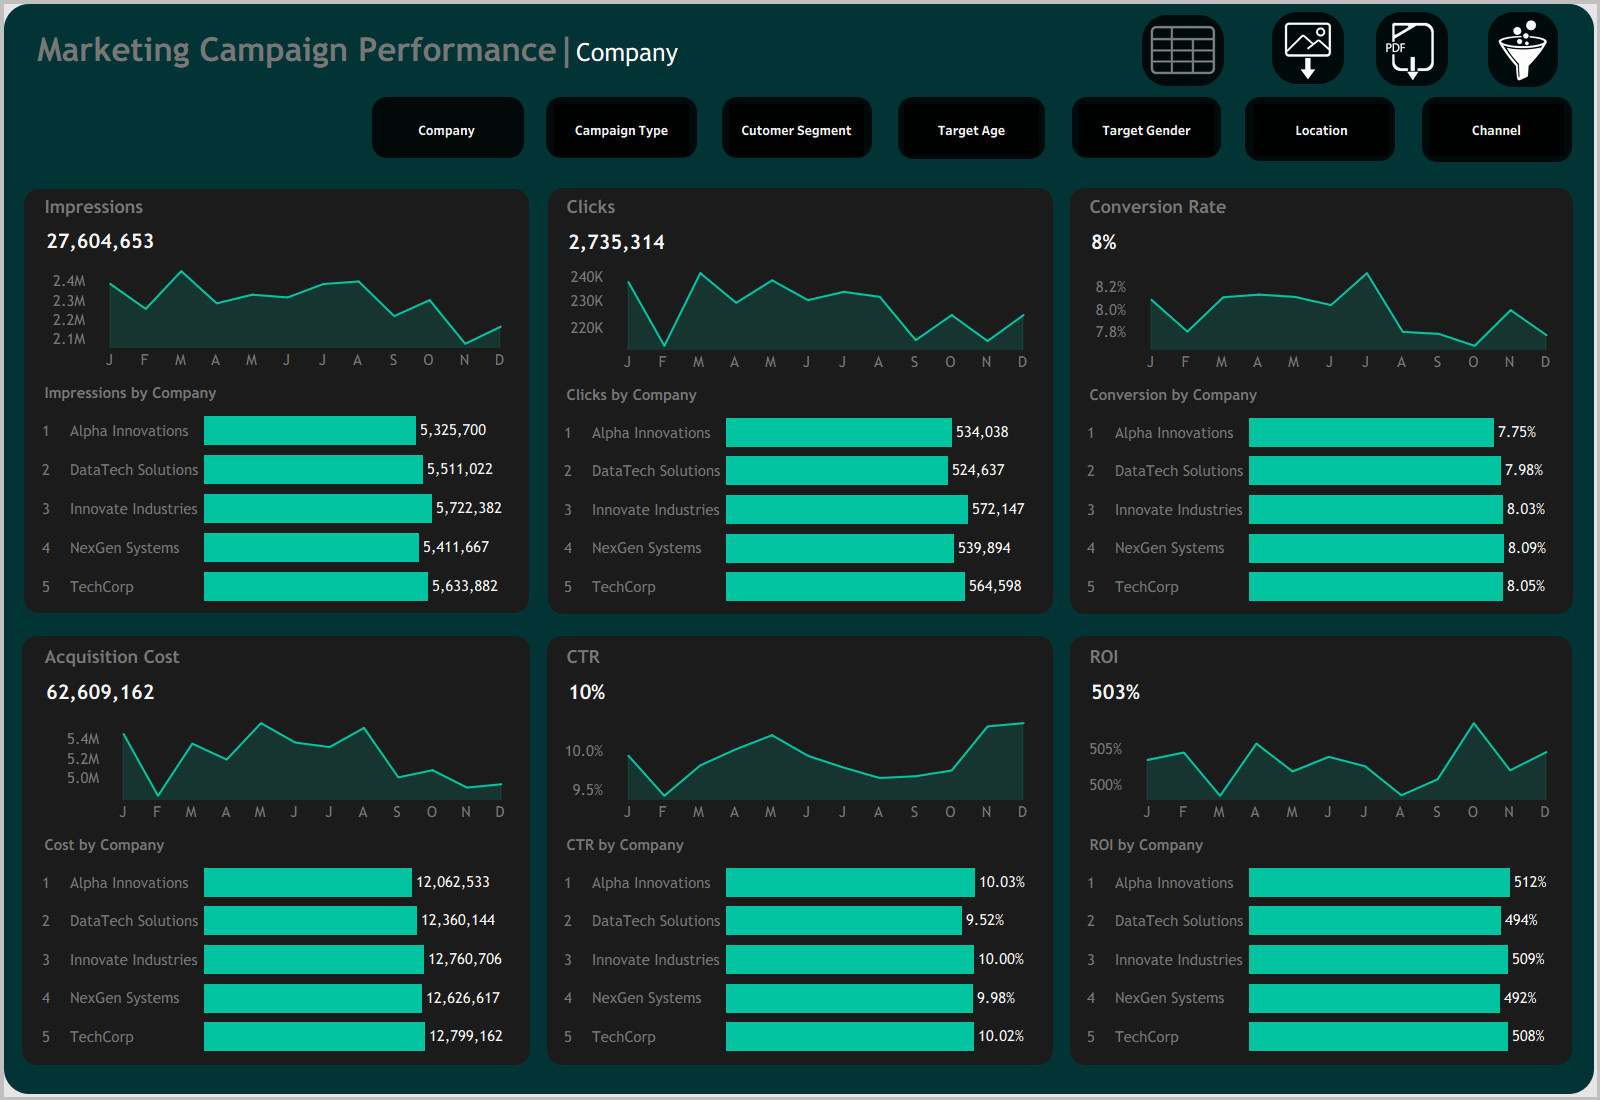

What the dashboard file says about the page in this screenshot:
{"tool":"tableau","page":{"name":"Company Page","canvas":[1600,1100],"ordinal":2},"visuals":[{"type":"worksheet","title":"Background Dashboard","mark":"Automatic","box":[0,0,1600,1100]},{"type":"blank","box":[0,0,1600,15]},{"type":"filter","title":"Impressions by Company","param":"[federated.1mnywug06xvtuc16vjv8v0i6xip0].[none:Channel_Used:nk]","box":[772,12,140.6,60]},{"type":"filter","title":"Impressions by Company","param":"[federated.1mnywug06xvtuc16vjv8v0i6xip0].[none:Company:nk]","box":[912.6,12,140.6,60]},{"type":"filter","title":"Impressions by Company","param":"[federated.1mnywug06xvtuc16vjv8v0i6xip0].[none:Calculation_1166370128986117:nk]","box":[1053.2,12,140.6,60]},{"type":"filter","title":"Impressions by Company","param":"[federated.1mnywug06xvtuc16vjv8v0i6xip0].[none:Target_Age:nk]","box":[1193.8,12,140.6,60]},{"type":"filter","title":"Impressions by Company","param":"[federated.1mnywug06xvtuc16vjv8v0i6xip0].[none:Target_Gender:nk]","box":[1334.4,12,140.6,60]},{"type":"text","box":[0,15,778,70]},{"type":"blank","box":[778,15,366,70]},{"type":"dashboard-object","box":[1144,15,77,70]},{"type":"blank","box":[1221,15,50,70]},{"type":"dashboard-object","box":[1271,15,73,70]},{"type":"blank","box":[1344,15,30,70]},{"type":"dashboard-object","box":[1374,15,70,70]},{"type":"blank","box":[1444,15,43,70]},{"type":"dashboard-object","box":[1487,15,70,70]},{"type":"blank","box":[1557,15,43,70]},{"type":"blank","box":[0,85,1600,15]},{"type":"blank","box":[0,90,4,35]},{"type":"dashboard-object","box":[4,90,39,35]},{"type":"text","box":[43,90,38,35]},{"type":"blank","box":[81,90,5,35]},{"type":"dashboard-object","box":[86,90,44,33]},{"type":"text","box":[130,90,148,33]},{"type":"blank","box":[278,90,5,35]},{"type":"dashboard-object","box":[283,90,30,33]},{"type":"text","box":[313,90,155,33]},{"type":"blank","box":[468,90,5,35]},{"type":"dashboard-object","box":[473,90,44,33]},{"type":"text","box":[517,90,106,33]},{"type":"blank","box":[623,90,5,35]},{"type":"dashboard-object","box":[628,90,44,33]},{"type":"text","box":[672,90,145,33]},{"type":"blank","box":[817.1,90,5,35]},{"type":"dashboard-object","box":[822.1,90,30,30]},{"type":"text","box":[852.1,90,144,30]},{"type":"blank","box":[996.1,90,5,35]},{"type":"dashboard-object","box":[1001.1,90,30,30]},{"type":"text","box":[1031.1,90,169,30]},{"type":"blank","box":[1200.1,90,5,35]},{"type":"dashboard-object","box":[1205.1,90,30,30]},{"type":"text","box":[1235.1,90,154,30]},{"type":"blank","box":[1389.1,90,5,35]},{"type":"dashboard-object","box":[1394.1,90,30,30]},{"type":"text","box":[1424.1,90,142,30]},{"type":"blank","box":[1566.1,90,30,35]},{"type":"blank","box":[0,100,343,60]},{"type":"blank","box":[343,100,32,60]},{"type":"dashboard-object","box":[375,100,143,60]},{"type":"blank","box":[518,100,32,60]},{"type":"dashboard-object","box":[550,100,143,60]},{"type":"blank","box":[693,100,32,60]},{"type":"dashboard-object","box":[725,100,143,60]},{"type":"blank","box":[868,100,32,60]},{"type":"dashboard-object","box":[900,100,143,60]},{"type":"blank","box":[1043,100,32,60]},{"type":"dashboard-object","box":[1075,100,143,60]},{"type":"blank","box":[1218,100,32,60]},{"type":"dashboard-object","box":[1250,100,143,60]},{"type":"blank","box":[1393,100,32,60]},{"type":"dashboard-object","box":[1425,100,143,60]},{"type":"blank","box":[1568,100,32,60]},{"type":"filter","title":"Detailed_Table","param":"[federated.1mnywug06xvtuc16vjv8v0i6xip0].[none:Channel_Used:nk]","box":[822.1,120,174,58]},{"type":"filter","title":"Detailed_Table","param":"[federated.1mnywug06xvtuc16vjv8v0i6xip0].[usr:Calculation_1851639007813637:qk]","box":[1001.1,120,199,51]},{"type":"filter","title":"Detailed_Table","param":"[federated.1mnywug06xvtuc16vjv8v0i6xip0].[usr:Calculation_1851639006334976:qk]","box":[1205.1,120,184,33]},{"type":"filter","title":"Detailed_Table","param":"[federated.1mnywug06xvtuc16vjv8v0i6xip0].[usr:Calculation_1851639007145986:qk]","box":[1394.1,120,172,51]},{"type":"filter","title":"Detailed_Table","param":"[federated.1mnywug06xvtuc16vjv8v0i6xip0].[none:Company:nk]","box":[86,123,192,58]},{"type":"filter","title":"Detailed_Table","param":"[federated.1mnywug06xvtuc16vjv8v0i6xip0].[none:Customer_Segment:nk]","box":[283,123,185,58]},{"type":"filter","title":"Detailed_Table","param":"[federated.1mnywug06xvtuc16vjv8v0i6xip0].[tdy:Date:qk]","box":[473,123,150,68]},{"type":"filter","title":"Detailed_Table","param":"[federated.1mnywug06xvtuc16vjv8v0i6xip0].[none:Calculation_1166370128986117:nk]","box":[628,123,189,58]},{"type":"worksheet","title":"Detailed_Table","mark":"Shape","rows":["Campaign_ID (Dim!Campaign)"],"cols":["Calculation_2238670781300739","Calculation_2238670781300739","Calculation_2238670781300739","Calculation_2238670781300739","Calculation_2238670781300739","Calculation_2238670781300739","Calculation_2238670781300739","Calculation_2238670781300739"],"box":[0,125,1600,975]},{"type":"filter","title":"Detailed_Table","param":"[federated.1mnywug06xvtuc16vjv8v0i6xip0].[none:Campaign_ID (Dim!Campaign):nk]","box":[4,125,77,35]},{"type":"blank","box":[0,160,32,932]},{"type":"blank","box":[32,160,490,32]},{"type":"blank","box":[522,160,32,932]},{"type":"blank","box":[554.1,160,490.9,32]},{"type":"blank","box":[1045,160,32,932]},{"type":"blank","box":[1077,160,490.9,32]},{"type":"blank","box":[1567.9,160,32,932]},{"type":"filter","title":"Detailed_Table","param":"[federated.1mnywug06xvtuc16vjv8v0i6xip0].[none:Campaign_Type:nk]","box":[86,181,192,58]},{"type":"filter","title":"Detailed_Table","param":"[federated.1mnywug06xvtuc16vjv8v0i6xip0].[none:Target_Age:nk]","box":[283,181,185,58]},{"type":"filter","title":"Detailed_Table","param":"[federated.1mnywug06xvtuc16vjv8v0i6xip0].[none:Location:nk]","box":[628,181,189,58]},{"type":"filter","title":"Detailed_Table","param":"[federated.1mnywug06xvtuc16vjv8v0i6xip0].[none:Weekday:nk]","box":[473,191,150,58]},{"type":"text","box":[32,192,490,29]},{"type":"text","box":[554.1,192,490.9,29]},{"type":"text","box":[1077,192,490.9,29]},{"type":"worksheet","title":"BAN Impressions","mark":"Automatic","box":[32,221,490,40.7]},{"type":"worksheet","title":"BAN Clicks","mark":"Automatic","box":[554.1,221,490.9,43]},{"type":"worksheet","title":"BAN Conversion","mark":"Automatic","box":[1077,221,490.9,43]},{"type":"filter","title":"Detailed_Table","param":"[federated.1mnywug06xvtuc16vjv8v0i6xip0].[none:Target_Gender:nk]","box":[283,239,185,58]},{"type":"worksheet","title":"Impressions by Year","mark":"Line","rows":["Calculation_1851639006334976","Calculation_1851639006334976"],"cols":["Date"],"box":[32,261.7,490,112]},{"type":"worksheet","title":"Clicks by Year","mark":"Line","rows":["Calculation_1851639006855169","Calculation_1851639006855169"],"cols":["Date"],"box":[554.1,264,490.9,112]},{"type":"worksheet","title":"Conversion by Year","mark":"Line","rows":["Calculation_1851639007629316","Calculation_1851639007629316"],"cols":["Date"],"box":[1077,264,490.9,112]},{"type":"worksheet","title":"Impressions by Company","mark":"Bar","rows":["Calculation_1166370116337667","Company"],"cols":["Calculation_1851639006334976"],"box":[32,373.7,490,236.3]},{"type":"worksheet","title":"Clicks by Company","mark":"Bar","rows":["Calculation_1166370116337667","Company"],"cols":["Calculation_1851639006855169"],"box":[554.1,376,490.9,234]},{"type":"worksheet","title":"Conversion by Company","mark":"Bar","rows":["Calculation_1166370116337667","Company"],"cols":["Calculation_1851639007629316"],"box":[1077,376,490.9,234]},{"type":"blank","box":[32,610,490,32]},{"type":"blank","box":[554.1,610,490.9,32]},{"type":"blank","box":[1077,610,490.9,32]},{"type":"text","box":[32,642,490,29]},{"type":"text","box":[554.1,642,490.9,29]},{"type":"text","box":[1077,642,490.9,29]},{"type":"worksheet","title":"BAN Cost","mark":"Automatic","box":[32,671,490,43]},{"type":"worksheet","title":"BAN CTR","mark":"Automatic","box":[554.1,671,490.9,43]},{"type":"worksheet","title":"BAN ROI","mark":"Automatic","box":[1077,671,490.9,43]},{"type":"worksheet","title":"Cost by Year","mark":"Line","rows":["Calculation_1851639007813637","Calculation_1851639007813637"],"cols":["Date"],"box":[32,714,490,112]},{"type":"worksheet","title":"CTR by Year","mark":"Line","rows":["Calculation_1851639007145986","Calculation_1851639007145986"],"cols":["Date"],"box":[554.1,714,490.9,112]},{"type":"worksheet","title":"ROI by Year","mark":"Line","rows":["Calculation_1851639007985670","Calculation_1851639007985670"],"cols":["Date"],"box":[1077,714,490.9,112]},{"type":"worksheet","title":"Cost by Company","mark":"Bar","rows":["Calculation_1166370116337667","Company"],"cols":["Calculation_1851639007813637"],"box":[32,826,490,234]},{"type":"worksheet","title":"CTR by Company","mark":"Bar","rows":["Calculation_1166370116337667","Company"],"cols":["Calculation_1851639007145986"],"box":[554.1,826,490.9,234]},{"type":"worksheet","title":"ROI by Company","mark":"Bar","rows":["Calculation_1166370116337667","Company"],"cols":["Calculation_1851639007985670"],"box":[1077,826,490.9,234]},{"type":"blank","box":[32,1060,490,32]},{"type":"blank","box":[554.1,1060,490.9,32]},{"type":"blank","box":[1077,1060,490.9,32]}]}

Visuals, with their boxes in screenshot pixels (x1, y1, x2, y2), scaled from the page's 1600x1100 canvas onto the 1600x1100 screenshot:
"Background Dashboard" worksheet: <box>0,0,1599,1099</box>
blank: <box>0,0,1599,15</box>
"Impressions by Company" filter: <box>772,12,913,72</box>
"Impressions by Company" filter: <box>913,12,1053,72</box>
"Impressions by Company" filter: <box>1053,12,1194,72</box>
"Impressions by Company" filter: <box>1194,12,1334,72</box>
"Impressions by Company" filter: <box>1334,12,1475,72</box>
text: <box>0,15,778,85</box>
blank: <box>778,15,1144,85</box>
dashboard-object: <box>1144,15,1221,85</box>
blank: <box>1221,15,1271,85</box>
dashboard-object: <box>1271,15,1344,85</box>
blank: <box>1344,15,1374,85</box>
dashboard-object: <box>1374,15,1444,85</box>
blank: <box>1444,15,1487,85</box>
dashboard-object: <box>1487,15,1557,85</box>
blank: <box>1557,15,1599,85</box>
blank: <box>0,85,1599,100</box>
blank: <box>0,90,4,125</box>
dashboard-object: <box>4,90,43,125</box>
text: <box>43,90,81,125</box>
blank: <box>81,90,86,125</box>
dashboard-object: <box>86,90,130,123</box>
text: <box>130,90,278,123</box>
blank: <box>278,90,283,125</box>
dashboard-object: <box>283,90,313,123</box>
text: <box>313,90,468,123</box>
blank: <box>468,90,473,125</box>
dashboard-object: <box>473,90,517,123</box>
text: <box>517,90,623,123</box>
blank: <box>623,90,628,125</box>
dashboard-object: <box>628,90,672,123</box>
text: <box>672,90,817,123</box>
blank: <box>817,90,822,125</box>
dashboard-object: <box>822,90,852,120</box>
text: <box>852,90,996,120</box>
blank: <box>996,90,1001,125</box>
dashboard-object: <box>1001,90,1031,120</box>
text: <box>1031,90,1200,120</box>
blank: <box>1200,90,1205,125</box>
dashboard-object: <box>1205,90,1235,120</box>
text: <box>1235,90,1389,120</box>
blank: <box>1389,90,1394,125</box>
dashboard-object: <box>1394,90,1424,120</box>
text: <box>1424,90,1566,120</box>
blank: <box>1566,90,1596,125</box>
blank: <box>0,100,343,160</box>
blank: <box>343,100,375,160</box>
dashboard-object: <box>375,100,518,160</box>
blank: <box>518,100,550,160</box>
dashboard-object: <box>550,100,693,160</box>
blank: <box>693,100,725,160</box>
dashboard-object: <box>725,100,868,160</box>
blank: <box>868,100,900,160</box>
dashboard-object: <box>900,100,1043,160</box>
blank: <box>1043,100,1075,160</box>
dashboard-object: <box>1075,100,1218,160</box>
blank: <box>1218,100,1250,160</box>
dashboard-object: <box>1250,100,1393,160</box>
blank: <box>1393,100,1425,160</box>
dashboard-object: <box>1425,100,1568,160</box>
blank: <box>1568,100,1599,160</box>
"Detailed_Table" filter: <box>822,120,996,178</box>
"Detailed_Table" filter: <box>1001,120,1200,171</box>
"Detailed_Table" filter: <box>1205,120,1389,153</box>
"Detailed_Table" filter: <box>1394,120,1566,171</box>
"Detailed_Table" filter: <box>86,123,278,181</box>
"Detailed_Table" filter: <box>283,123,468,181</box>
"Detailed_Table" filter: <box>473,123,623,191</box>
"Detailed_Table" filter: <box>628,123,817,181</box>
"Detailed_Table" worksheet (Shape marks): <box>0,125,1599,1099</box>
"Detailed_Table" filter: <box>4,125,81,160</box>
blank: <box>0,160,32,1092</box>
blank: <box>32,160,522,192</box>
blank: <box>522,160,554,1092</box>
blank: <box>554,160,1045,192</box>
blank: <box>1045,160,1077,1092</box>
blank: <box>1077,160,1568,192</box>
blank: <box>1568,160,1599,1092</box>
"Detailed_Table" filter: <box>86,181,278,239</box>
"Detailed_Table" filter: <box>283,181,468,239</box>
"Detailed_Table" filter: <box>628,181,817,239</box>
"Detailed_Table" filter: <box>473,191,623,249</box>
text: <box>32,192,522,221</box>
text: <box>554,192,1045,221</box>
text: <box>1077,192,1568,221</box>
"BAN Impressions" worksheet: <box>32,221,522,262</box>
"BAN Clicks" worksheet: <box>554,221,1045,264</box>
"BAN Conversion" worksheet: <box>1077,221,1568,264</box>
"Detailed_Table" filter: <box>283,239,468,297</box>
"Impressions by Year" worksheet (Line marks): <box>32,262,522,374</box>
"Clicks by Year" worksheet (Line marks): <box>554,264,1045,376</box>
"Conversion by Year" worksheet (Line marks): <box>1077,264,1568,376</box>
"Impressions by Company" worksheet (Bar marks): <box>32,374,522,610</box>
"Clicks by Company" worksheet (Bar marks): <box>554,376,1045,610</box>
"Conversion by Company" worksheet (Bar marks): <box>1077,376,1568,610</box>
blank: <box>32,610,522,642</box>
blank: <box>554,610,1045,642</box>
blank: <box>1077,610,1568,642</box>
text: <box>32,642,522,671</box>
text: <box>554,642,1045,671</box>
text: <box>1077,642,1568,671</box>
"BAN Cost" worksheet: <box>32,671,522,714</box>
"BAN CTR" worksheet: <box>554,671,1045,714</box>
"BAN ROI" worksheet: <box>1077,671,1568,714</box>
"Cost by Year" worksheet (Line marks): <box>32,714,522,826</box>
"CTR by Year" worksheet (Line marks): <box>554,714,1045,826</box>
"ROI by Year" worksheet (Line marks): <box>1077,714,1568,826</box>
"Cost by Company" worksheet (Bar marks): <box>32,826,522,1060</box>
"CTR by Company" worksheet (Bar marks): <box>554,826,1045,1060</box>
"ROI by Company" worksheet (Bar marks): <box>1077,826,1568,1060</box>
blank: <box>32,1060,522,1092</box>
blank: <box>554,1060,1045,1092</box>
blank: <box>1077,1060,1568,1092</box>
